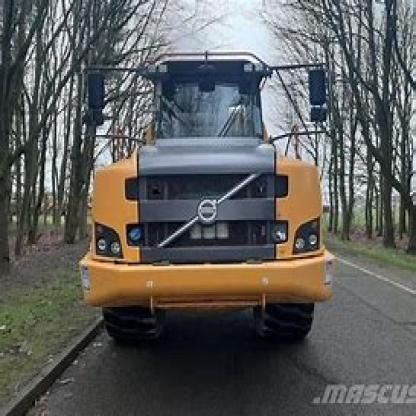dump_truck: (52, 46, 361, 346)
